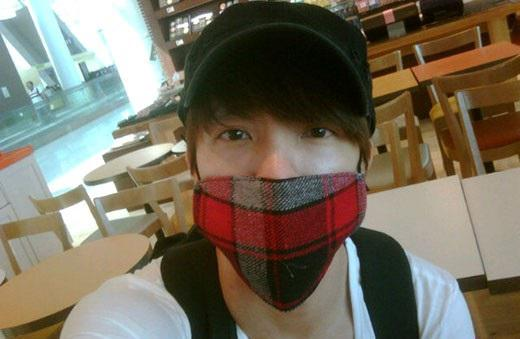WRONG: (193, 92, 370, 280)
